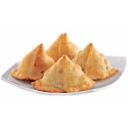samosa: (41, 55, 93, 90), (73, 44, 119, 78), (12, 44, 55, 80), (45, 32, 80, 61)
